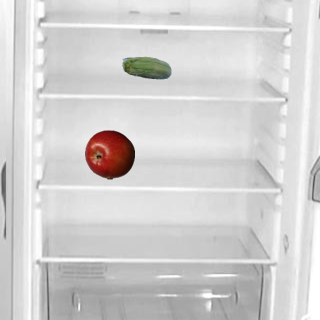Apple Braeburn: (84, 129, 134, 179)
Corn Husk: (121, 44, 171, 94)
